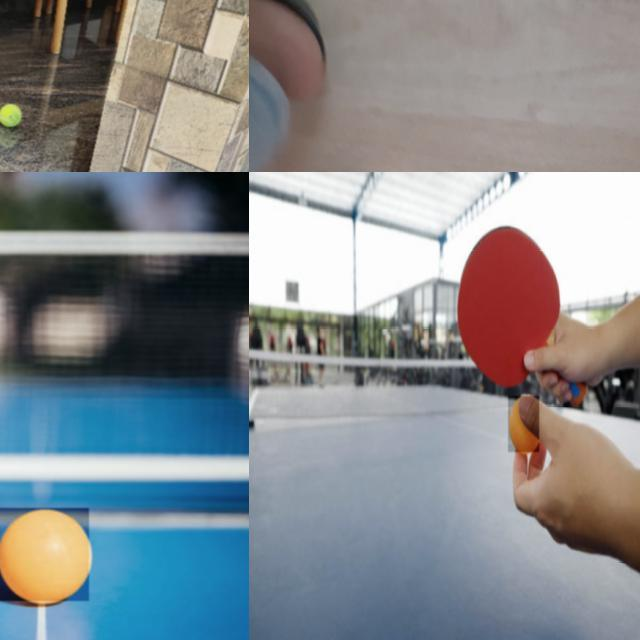ping-pong-ball: (0, 508, 91, 603), (508, 396, 540, 454)
